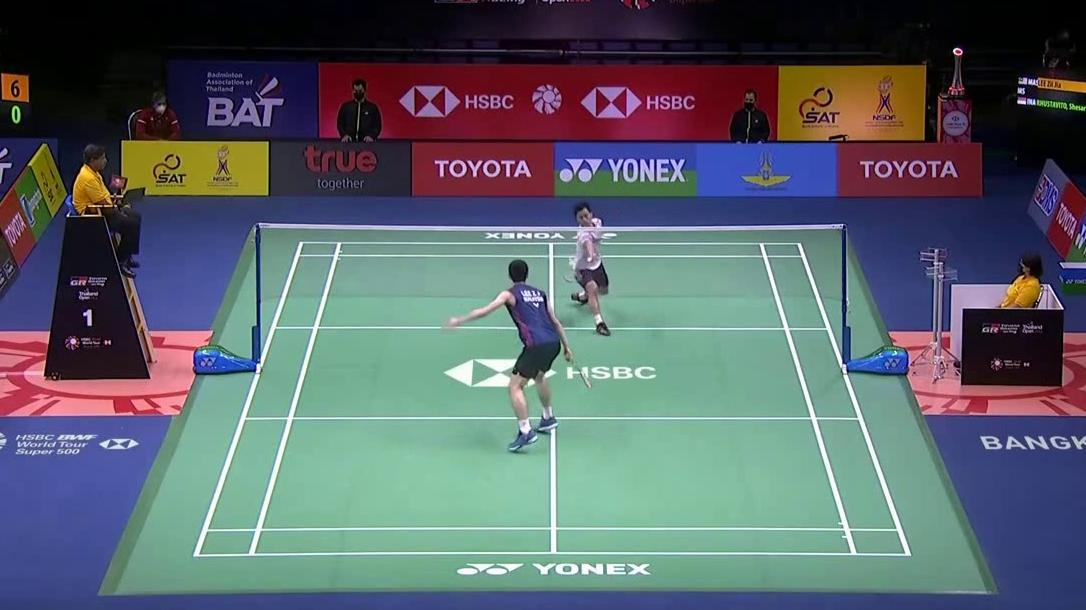racket: (565, 353, 593, 390), (563, 256, 594, 284)
shuttle: (568, 258, 575, 270)
